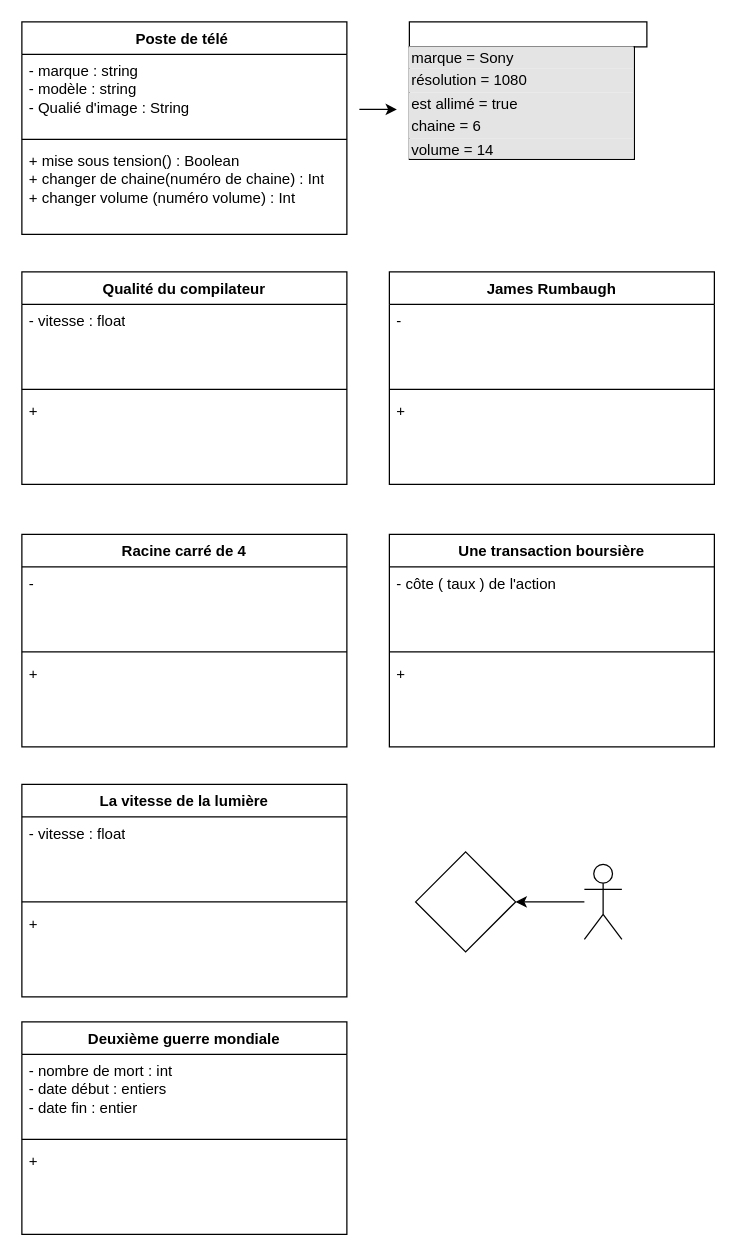
Image size: 736x1260. Some labels were removed from this diagram. Here are the shapes that lost their labels. From the top down, the centre of each, then its label:
(x=527, y=34): Télévision du salon : télévision
(x=602, y=901): eddie
